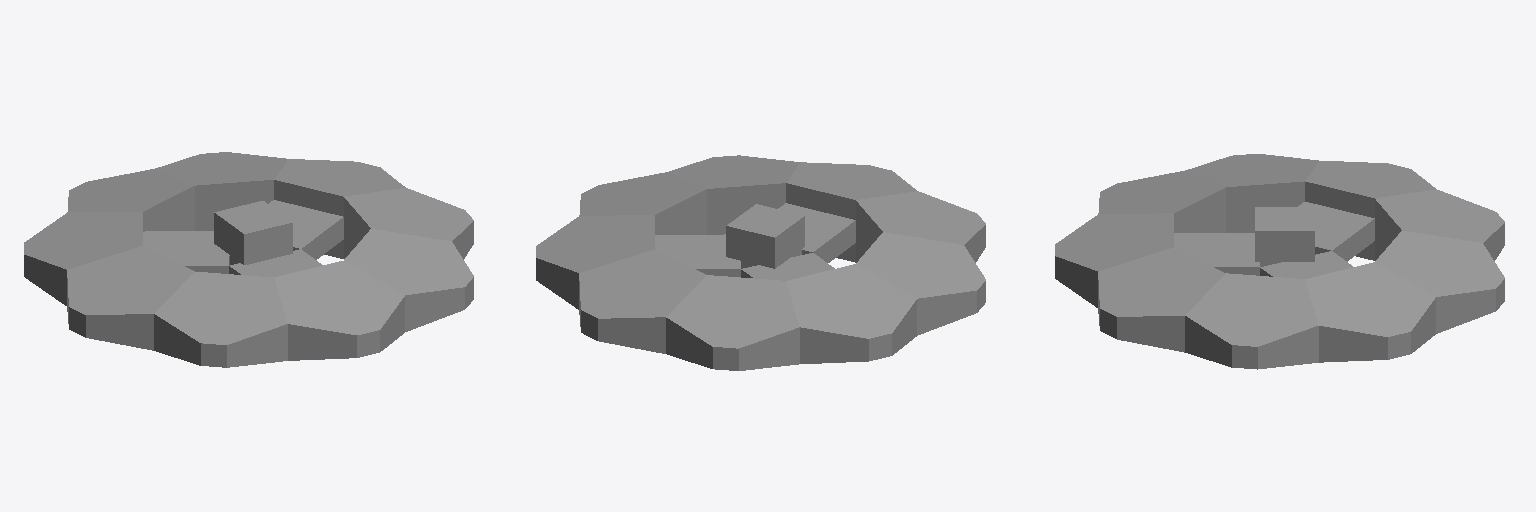
Rendered from servo_gear2.obj.
3 renders of one model, left to right at view 1: azimuth 30°, elevation 25°; view 2: azimuth 150°, elevation 25°; view 3: azimuth 270°, elevation 25°, orthographic.
Visible parts, largest first — view 1: Dark_Gear_Circle, spokes_Circle.008, axle_Circle.009; view 2: Dark_Gear_Circle, spokes_Circle.008, axle_Circle.009; view 3: Dark_Gear_Circle, spokes_Circle.008, axle_Circle.009.
Boxes of the visible parts, box(x1,y1,x2,y2) form: Dark_Gear_Circle: box(24, 152, 473, 367); spokes_Circle.008: box(143, 200, 343, 276); axle_Circle.009: box(214, 201, 292, 264); Dark_Gear_Circle: box(536, 155, 985, 370); spokes_Circle.008: box(655, 203, 855, 280); axle_Circle.009: box(726, 204, 804, 268); Dark_Gear_Circle: box(1055, 154, 1504, 369); spokes_Circle.008: box(1174, 202, 1374, 278); axle_Circle.009: box(1255, 207, 1314, 266).
Size of the model in its own units: 1.33 by 0.2365 by 1.31.